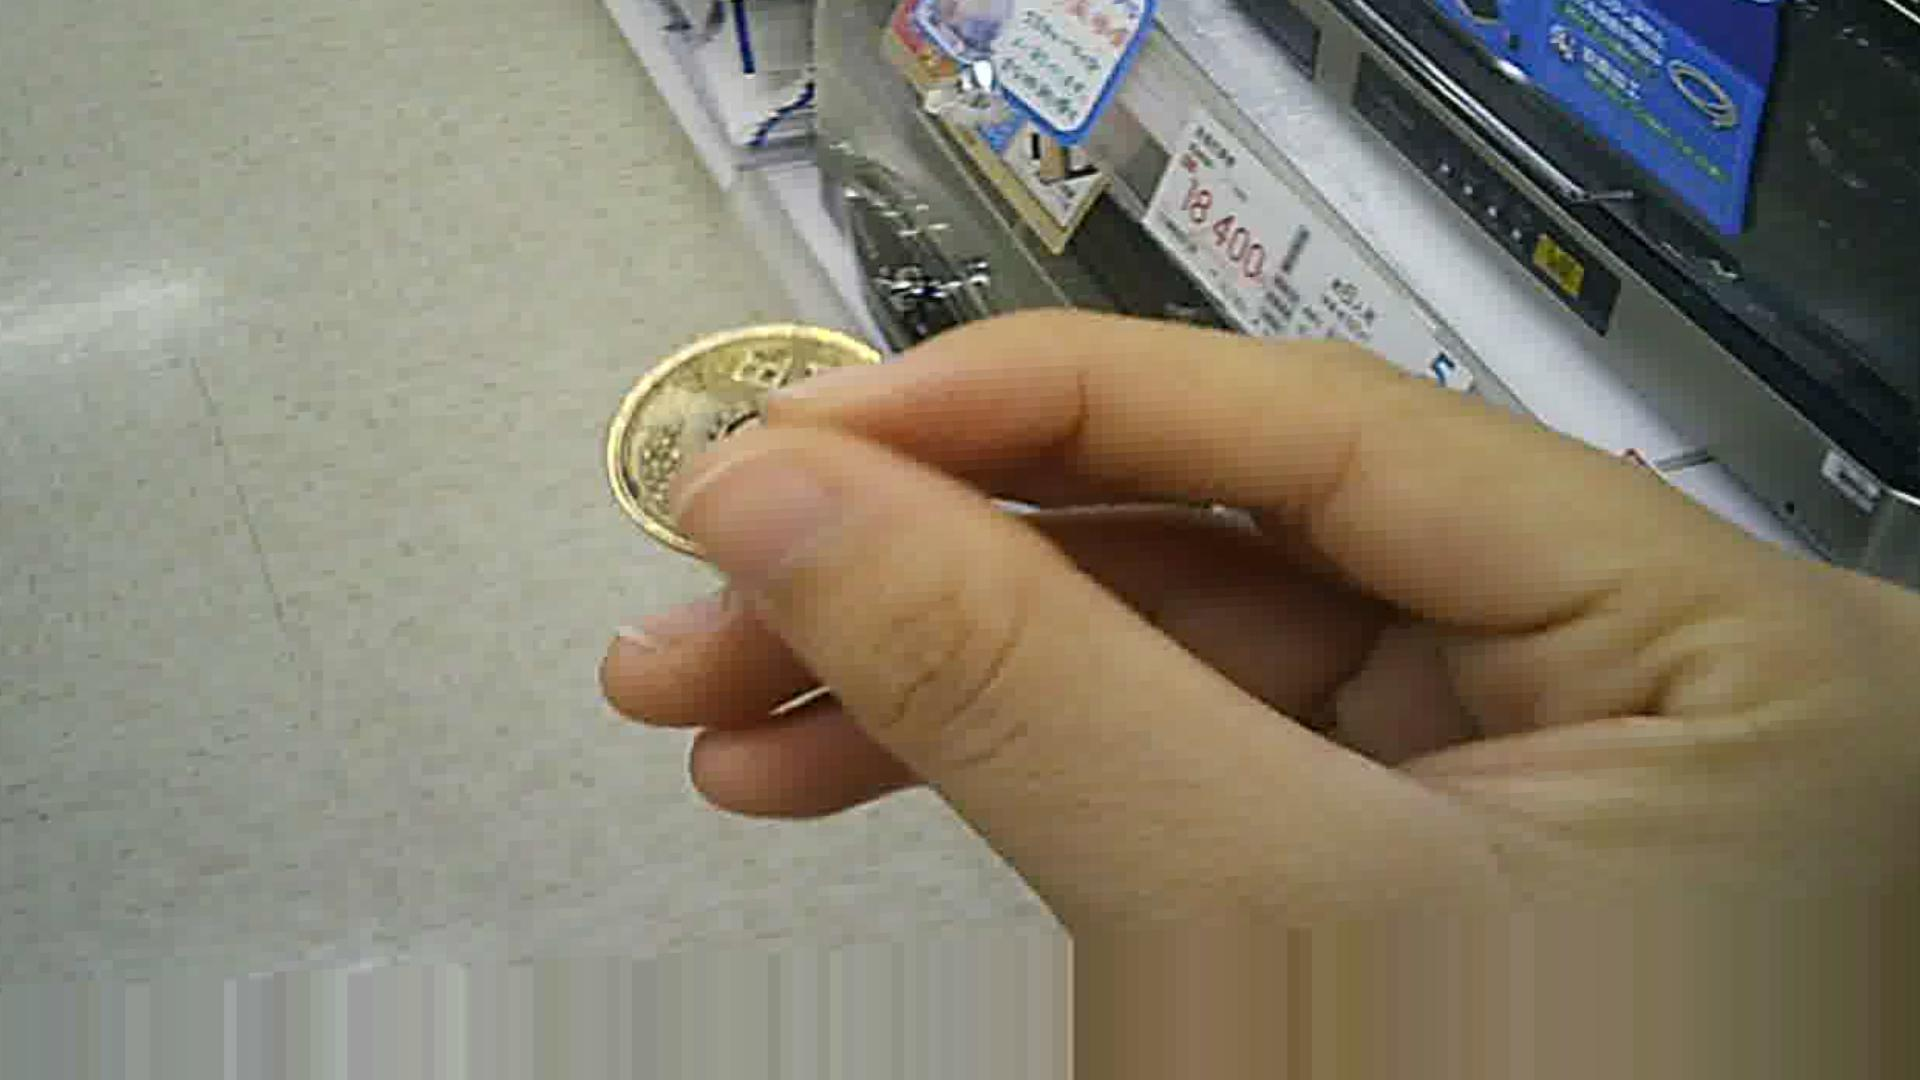5 Yen: (600, 324, 891, 545)
